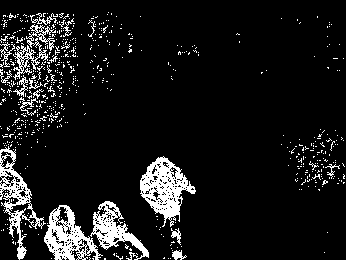person: (138, 156, 195, 260), (1, 147, 44, 260), (86, 199, 149, 260), (40, 203, 100, 260)
